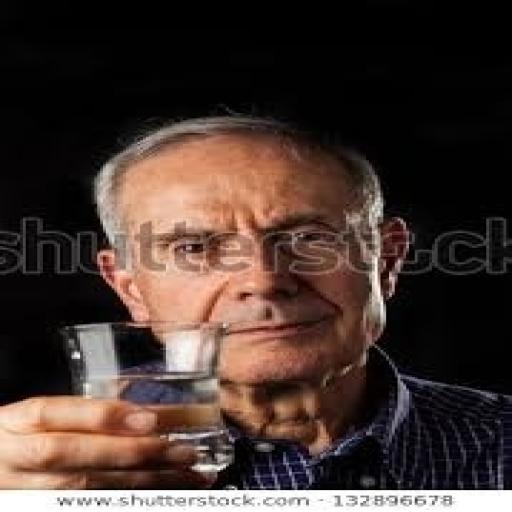drinking: (58, 319, 238, 477)
